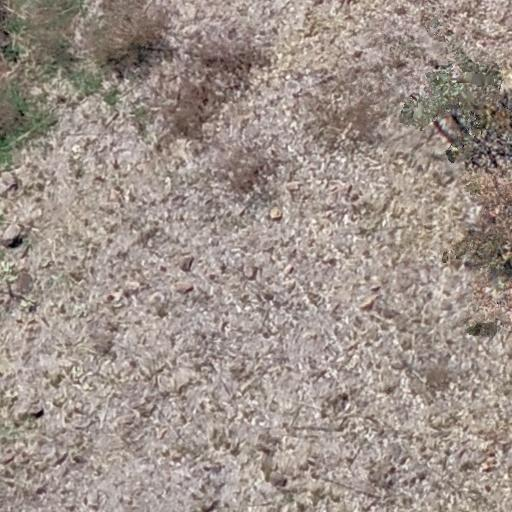stone: (0, 224, 28, 248), (19, 399, 44, 415), (243, 255, 258, 278), (176, 254, 194, 269), (269, 205, 283, 222), (175, 282, 194, 293), (124, 282, 142, 292)
